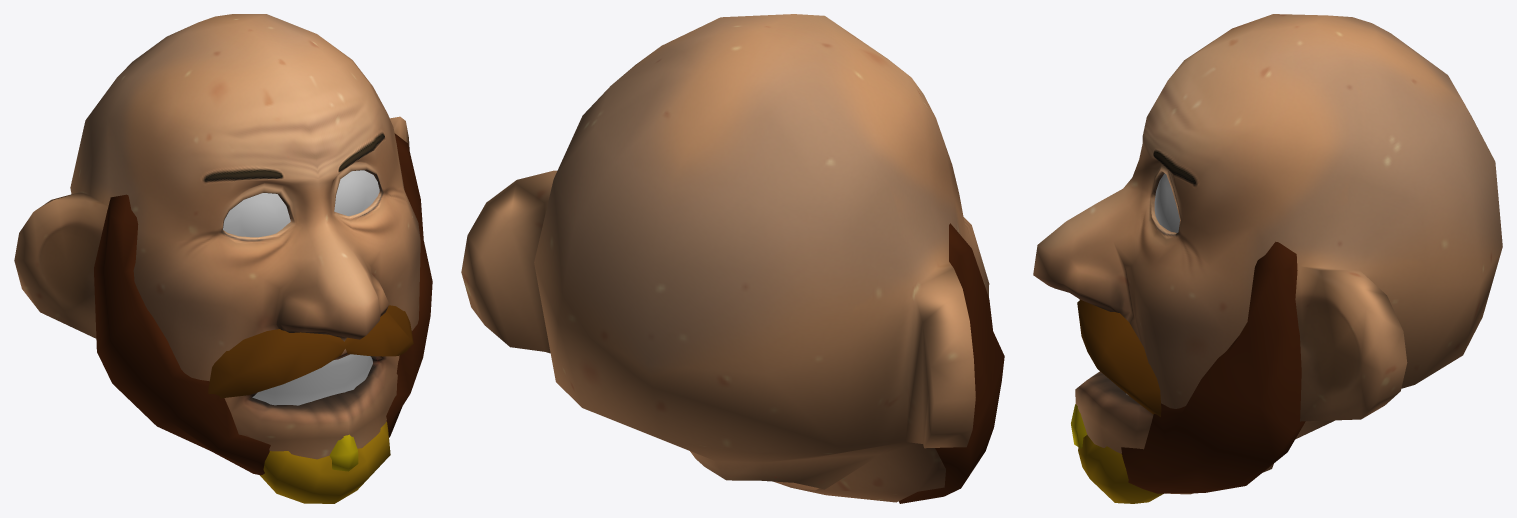
Rendered from E_pose04.fbx.
The picture shows the model from 3 angles, left to right: view 1: azimuth 30°, elevation 25°; view 2: azimuth 150°, elevation 25°; view 3: azimuth 270°, elevation 25°; orthographic projection. The views are drawn at different scales.
Parts seen in each view (by area): view 1: HEAD, BEARD; view 2: HEAD, BEARD; view 3: HEAD, BEARD.
Boxes of the visible parts, x1,y1,x2,y2 form: HEAD: (14, 14, 420, 459); BEARD: (94, 133, 432, 503); HEAD: (461, 14, 989, 502); BEARD: (899, 223, 1004, 503); HEAD: (1033, 14, 1502, 494); BEARD: (1071, 241, 1305, 503).
Size of the model in its own units: 27.45 by 27.53 by 24.9.
